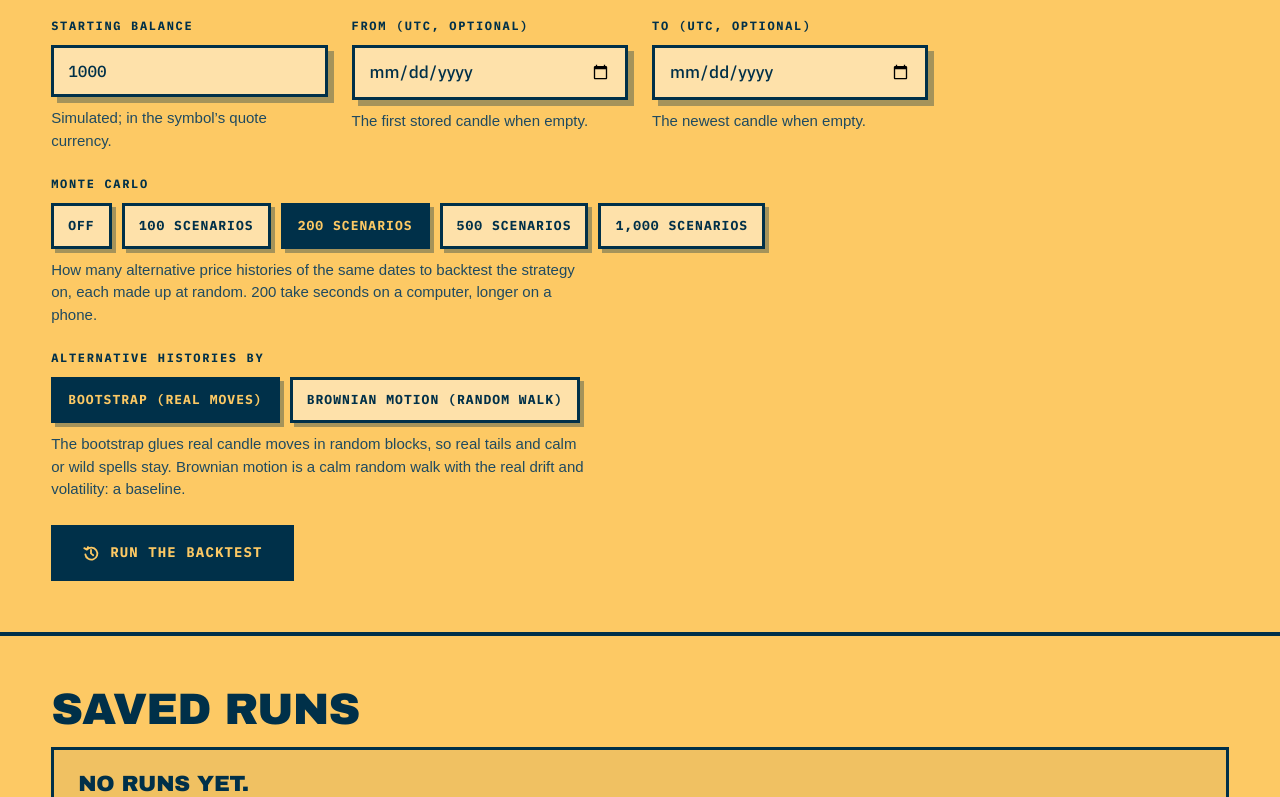
Test: Backtest › makes the alternative histories by Brownian motion when chosen
The image size is (1280, 797).
(page scrolled)
Click the radio button labelled "Brownian motion (random walk)".
click(435, 400)  # box top-left (290, 377), bottom-right (580, 423)
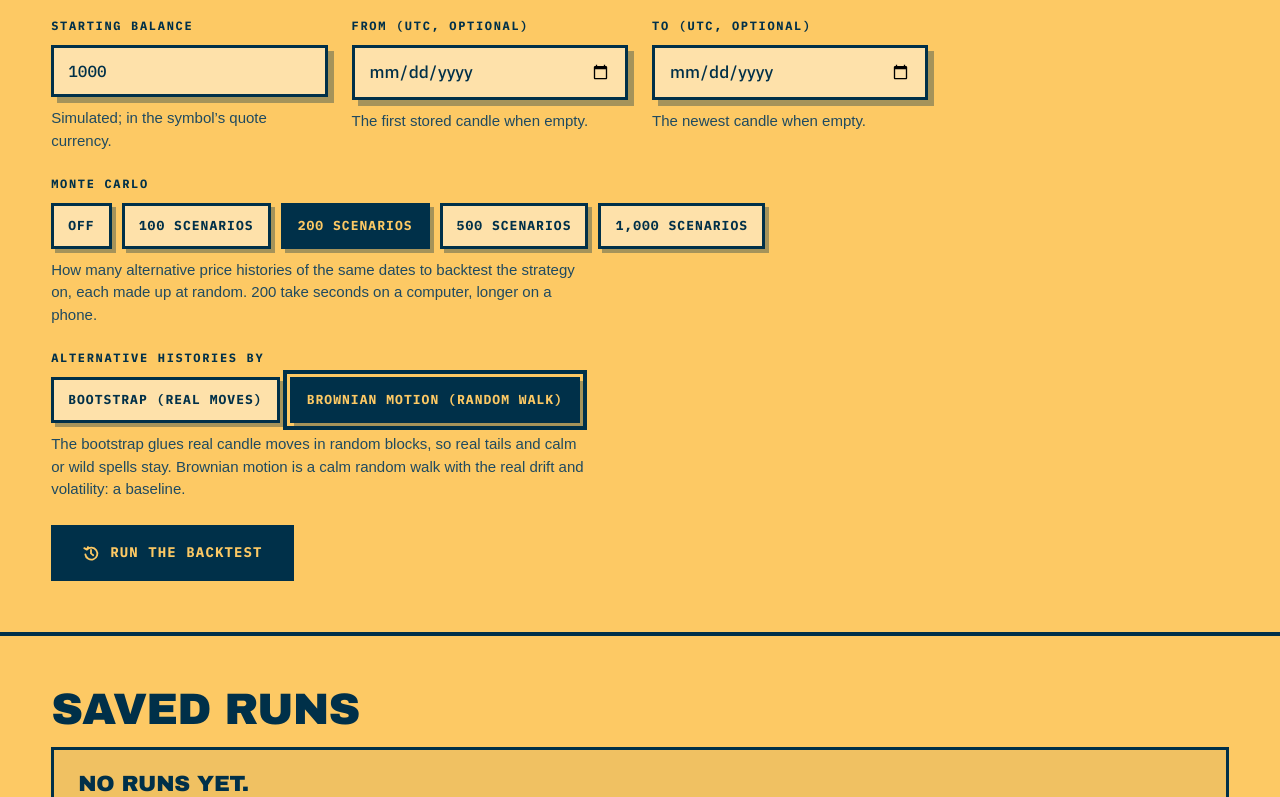
Click the button "Run the backtest".
click(172, 553)  # box top-left (51, 525), bottom-right (294, 581)
(page scrolled)
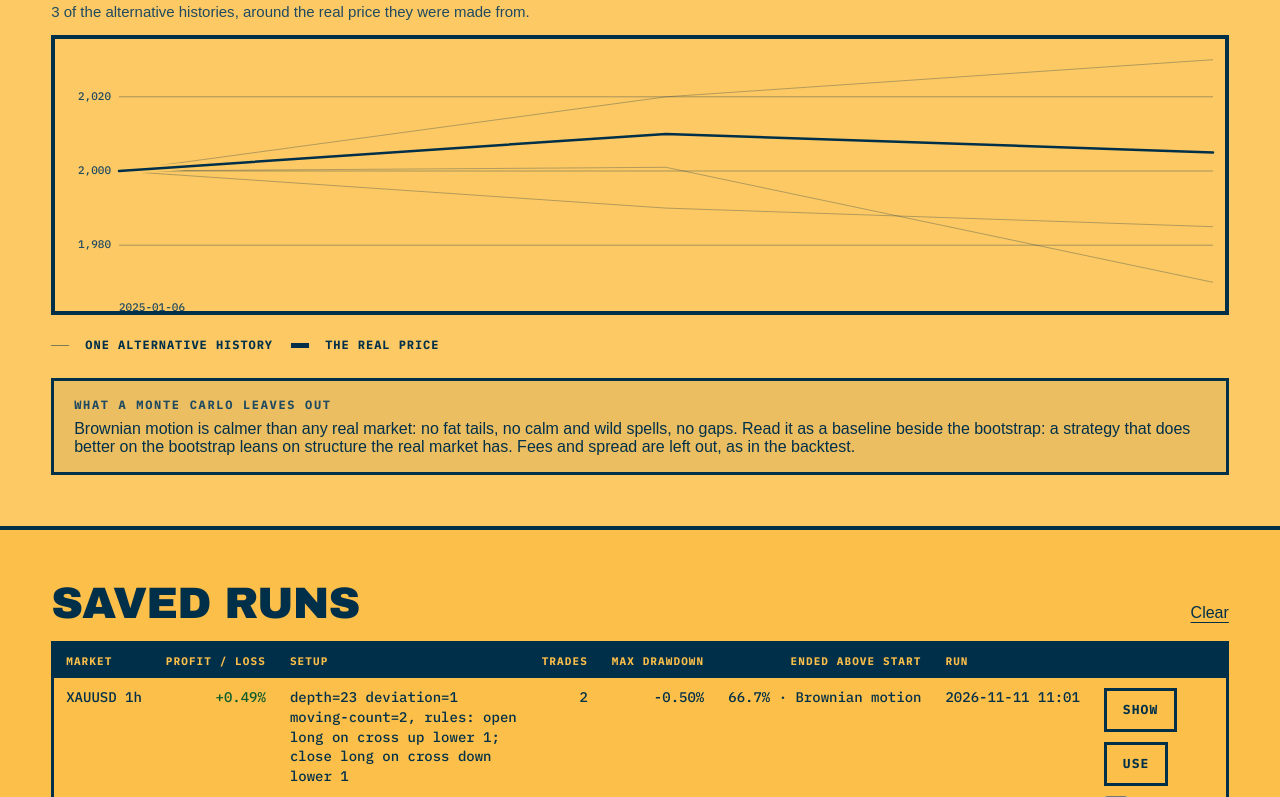
Now the text "Brownian motion is calmer than any real market" is shown, box top-left (74, 420), bottom-right (1190, 455)
